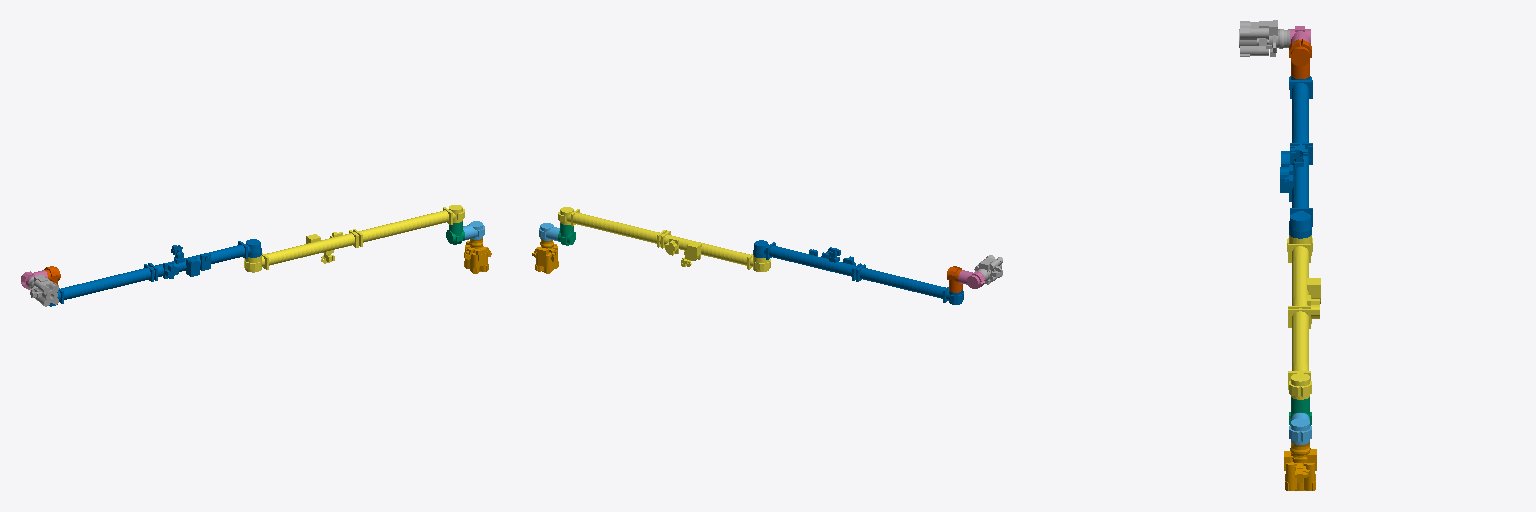
robot.urdf — CanadaArm2:
<?xml version="1.0" ?>
<robot name="CanadaArm2">

<!-- <material name="silver">
  <color rgba="0.700 0.700 0.700 1.000"/>
</material> -->

<link name="base_link">
  <inertial>
    <origin xyz="0.0009130959925412204 0.0006901136348603008 0.048208102763051236" rpy="0 0 0"/>
    <mass value="0.4237059895243373"/>
    <inertia ixx="0.0004092558945447719" iyy="0.00038404682501675465" izz="0.00020498064476976336" ixy="1.0165623829686665e-06" iyz="-4.948051807267175e-06" ixz="5.252636199371172e-06"/>
  </inertial>
  <visual>
    <origin xyz="0 0 0" rpy="0 0 0"/>
    <geometry>
      <mesh filename="meshes/base_link.stl" scale="0.001 0.001 0.001"/>
    </geometry>
    <!-- <material name="silver"/>
    <material/> -->
  </visual>
  <collision>
    <origin xyz="0 0 0" rpy="0 0 0"/>
    <geometry>
      <mesh filename="meshes/base_link.stl" scale="0.001 0.001 0.001"/>
    </geometry>
  </collision>
</link>

<link name="link_11">
  <inertial>
    <origin xyz="-0.012022080753456956 4.504438460746928e-06 0.021223287586985842" rpy="0 0 0"/>
    <mass value="0.15579058238581803"/>
    <inertia ixx="3.953363265274531e-05" iyy="8.371424973176991e-05" izz="8.6186782326062e-05" ixy="-1.0861613912698858e-07" iyz="4.379138446979421e-08" ixz="1.0201639682170562e-07"/>
  </inertial>
  <visual>
    <origin xyz="0.0 0.0 -0.109328" rpy="0 0 0"/>
    <geometry>
      <mesh filename="meshes/link_11.stl" scale="0.001 0.001 0.001"/>
    </geometry>
    <!-- <material name="silver"/>
    <material/> -->
  </visual>
  <collision>
    <origin xyz="0.0 0.0 -0.109328" rpy="0 0 0"/>
    <geometry>
      <mesh filename="meshes/link_11.stl" scale="0.001 0.001 0.001"/>
    </geometry>
  </collision>
</link>

<link name="link_21">
  <inertial>
    <origin xyz="-0.0212722329621534 -9.563785822951881e-07 0.012022116937095928" rpy="0 0 0"/>
    <mass value="0.15579021759009612"/>
    <inertia ixx="8.648943169675899e-05" iyy="8.429241934648085e-05" izz="3.9871128569710134e-05" ixy="1.9888566181498303e-08" iyz="4.4424194576562314e-09" ixz="-1.110155253675714e-07"/>
  </inertial>
  <visual>
    <origin xyz="0.050762 0.0 -0.130583" rpy="0 0 0"/>
    <geometry>
      <mesh filename="meshes/link_21.stl" scale="0.001 0.001 0.001"/>
    </geometry>
    <!-- <material name="silver"/>
    <material/> -->
  </visual>
  <collision>
    <origin xyz="0.050762 0.0 -0.130583" rpy="0 0 0"/>
    <geometry>
      <mesh filename="meshes/link_21.stl" scale="0.001 0.001 0.001"/>
    </geometry>
  </collision>
</link>

<link name="link_31">
  <inertial>
    <origin xyz="-0.3749592721242768 0.002167756136316175 0.020769052806213523" rpy="0 0 0"/>
    <mass value="1.342026213015195"/>
    <inertia ixx="0.0002589122773568181" iyy="0.06733252361597064" izz="0.06717431030885213" ixy="0.00018694044664734608" iyz="4.2211290964140266e-05" ixz="0.00020571069959553212"/>
  </inertial>
  <visual>
    <origin xyz="0.072005 0.0 -0.181344" rpy="0 0 0"/>
    <geometry>
      <mesh filename="meshes/link_31.stl" scale="0.001 0.001 0.001"/>
    </geometry>
    <!-- <material name="silver"/>
    <material/> -->
  </visual>
  <collision>
    <origin xyz="0.072005 0.0 -0.181344" rpy="0 0 0"/>
    <geometry>
      <mesh filename="meshes/link_31.stl" scale="0.001 0.001 0.001"/>
    </geometry>
  </collision>
</link>

<link name="link_41">
  <inertial>
    <origin xyz="-0.34102429216742425 -0.0024875618163693954 0.022823592324091285" rpy="0 0 0"/>
    <mass value="1.3047791025053486"/>
    <inertia ixx="0.0005005819746586454" iyy="0.06098802088277111" izz="0.06111706243026238" ixy="0.0003290206609817877" iyz="-1.2463562465362039e-05" ixz="-7.483793257567761e-05"/>
  </inertial>
  <visual>
    <origin xyz="0.775703 -1.6e-05 -0.232005" rpy="0 0 0"/>
    <geometry>
      <mesh filename="meshes/link_41.stl" scale="0.001 0.001 0.001"/>
    </geometry>
    <!-- <material name="silver"/>
    <material/> -->
  </visual>
  <collision>
    <origin xyz="0.775703 -1.6e-05 -0.232005" rpy="0 0 0"/>
    <geometry>
      <mesh filename="meshes/link_41.stl" scale="0.001 0.001 0.001"/>
    </geometry>
  </collision>
</link>

<link name="link_51">
  <inertial>
    <origin xyz="2.9454009316642882e-05 -5.2291701487376e-06 0.0387351142341712" rpy="0 0 0"/>
    <mass value="0.15576553227829482"/>
    <inertia ixx="8.227001568061366e-05" iyy="7.603788598981032e-05" izz="3.561108290406345e-05" ixy="2.1739266745471905e-07" iyz="5.310540229706253e-07" ixz="-7.962361346647295e-08"/>
  </inertial>
  <visual>
    <origin xyz="1.479425 -1.6e-05 -0.274942" rpy="0 0 0"/>
    <geometry>
      <mesh filename="meshes/link_51.stl" scale="0.001 0.001 0.001"/>
    </geometry>
    <!-- <material name="silver"/>
    <material/> -->
  </visual>
  <collision>
    <origin xyz="1.479425 -1.6e-05 -0.274942" rpy="0 0 0"/>
    <geometry>
      <mesh filename="meshes/link_51.stl" scale="0.001 0.001 0.001"/>
    </geometry>
  </collision>
</link>

<link name="link_61">
  <inertial>
    <origin xyz="-0.03871469375007819 4.616231212433191e-05 2.3531261986620144e-05" rpy="0 0 0"/>
    <mass value="0.15575461112408165"/>
    <inertia ixx="6.80786724601562e-05" iyy="0.00013769812830949357" izz="0.00011250739279045074" ixy="-4.997630556600001e-06" iyz="-4.777732048404048e-06" ixz="-1.2882027089627934e-06"/>
  </inertial>
  <visual>
    <origin xyz="1.500669 -1.6e-05 -0.325704" rpy="0 0 0"/>
    <geometry>
      <mesh filename="meshes/link_61.stl" scale="0.001 0.001 0.001"/>
    </geometry>
    <!-- <material name="silver"/>
    <material/> -->
  </visual>
  <collision>
    <origin xyz="1.500669 -1.6e-05 -0.325704" rpy="0 0 0"/>
    <geometry>
      <mesh filename="meshes/link_61.stl" scale="0.001 0.001 0.001"/>
    </geometry>
  </collision>
</link>

<link name="link_71">
  <inertial>
    <origin xyz="-0.0009163908926697051 -0.06112025146618943 0.000688272549077884" rpy="0 0 0"/>
    <mass value="0.4237362876419118"/>
    <inertia ixx="0.0004086266635229194" iyy="0.00020387938058230581" izz="0.0003835310833186778" ixy="-5.194200628555468e-06" iyz="-4.93113862320288e-06" ixz="-1.0191638754875054e-06"/>
  </inertial>
  <visual>
    <origin xyz="1.55143 0.021239 -0.325704" rpy="0 0 0"/>
    <geometry>
      <mesh filename="meshes/link_71.stl" scale="0.001 0.001 0.001"/>
    </geometry>
    <!-- <material name="silver"/>
    <material/> -->
  </visual>
  <collision>
    <origin xyz="1.55143 0.021239 -0.325704" rpy="0 0 0"/>
    <geometry>
      <mesh filename="meshes/link_71.stl" scale="0.001 0.001 0.001"/>
    </geometry>
  </collision>
</link>

<joint name="joint_1" type="revolute">
  <origin xyz="0.0 0.0 0.109328" rpy="0 0 0"/>
  <parent link="base_link"/>
  <child link="link_11"/>
  <axis xyz="-0.0 0.0 -1.0"/>
  <limit upper="3.141593" lower="-3.141593" effort="100" velocity="100"/>
</joint>
<transmission name="joint_1_tran">
  <type>transmission_interface/SimpleTransmission</type>
  <joint name="joint_1">
    <hardwareInterface>PositionJointInterface</hardwareInterface>
  </joint>
  <actuator name="joint_1_actr">
    <hardwareInterface>PositionJointInterface</hardwareInterface>
    <mechanicalReduction>1</mechanicalReduction>
  </actuator>
</transmission>

<joint name="joint_2" type="revolute">
  <origin xyz="-0.050762 0.0 0.021255" rpy="0 0 0"/>
  <parent link="link_11"/>
  <child link="link_21"/>
  <axis xyz="-1.0 0.0 0.0"/>
  <limit upper="3.141593" lower="-3.141593" effort="100" velocity="100"/>
</joint>
<transmission name="joint_2_tran">
  <type>transmission_interface/SimpleTransmission</type>
  <joint name="joint_2">
    <hardwareInterface>PositionJointInterface</hardwareInterface>
  </joint>
  <actuator name="joint_2_actr">
    <hardwareInterface>PositionJointInterface</hardwareInterface>
    <mechanicalReduction>1</mechanicalReduction>
  </actuator>
</transmission>

<joint name="joint_3" type="revolute">
  <origin xyz="-0.021243 0.0 0.050761" rpy="0 0 0"/>
  <parent link="link_21"/>
  <child link="link_31"/>
  <axis xyz="0.0 0.0 1.0"/>
  <limit upper="3.141593" lower="-3.141593" effort="100" velocity="100"/>
</joint>
<transmission name="joint_3_tran">
  <type>transmission_interface/SimpleTransmission</type>
  <joint name="joint_3">
    <hardwareInterface>PositionJointInterface</hardwareInterface>
  </joint>
  <actuator name="joint_3_actr">
    <hardwareInterface>PositionJointInterface</hardwareInterface>
    <mechanicalReduction>1</mechanicalReduction>
  </actuator>
</transmission>

<joint name="joint_4" type="revolute">
  <origin xyz="-0.703698 1.6e-05 0.050661" rpy="0 0 0"/>
  <parent link="link_31"/>
  <child link="link_41"/>
  <axis xyz="0.0 0.0 1.0"/>
  <limit upper="3.141593" lower="-3.141593" effort="100" velocity="100"/>
</joint>
<transmission name="joint_4_tran">
  <type>transmission_interface/SimpleTransmission</type>
  <joint name="joint_4">
    <hardwareInterface>PositionJointInterface</hardwareInterface>
  </joint>
  <actuator name="joint_4_actr">
    <hardwareInterface>PositionJointInterface</hardwareInterface>
    <mechanicalReduction>1</mechanicalReduction>
  </actuator>
</transmission>

<joint name="joint_5" type="revolute">
  <origin xyz="-0.703722 0.0 0.042937" rpy="0 0 0"/>
  <parent link="link_41"/>
  <child link="link_51"/>
  <axis xyz="-0.0 0.0 1.0"/>
  <limit upper="3.141593" lower="-3.141593" effort="100" velocity="100"/>
</joint>
<transmission name="joint_5_tran">
  <type>transmission_interface/SimpleTransmission</type>
  <joint name="joint_5">
    <hardwareInterface>PositionJointInterface</hardwareInterface>
  </joint>
  <actuator name="joint_5_actr">
    <hardwareInterface>PositionJointInterface</hardwareInterface>
    <mechanicalReduction>1</mechanicalReduction>
  </actuator>
</transmission>

<joint name="joint_6" type="revolute">
  <origin xyz="-0.021244 0.0 0.050762" rpy="0 0 0"/>
  <parent link="link_51"/>
  <child link="link_61"/>
  <axis xyz="-1.0 -0.0 0.0"/>
  <limit upper="3.141593" lower="-3.141593" effort="100" velocity="100"/>
</joint>
<transmission name="joint_6_tran">
  <type>transmission_interface/SimpleTransmission</type>
  <joint name="joint_6">
    <hardwareInterface>PositionJointInterface</hardwareInterface>
  </joint>
  <actuator name="joint_6_actr">
    <hardwareInterface>PositionJointInterface</hardwareInterface>
    <mechanicalReduction>1</mechanicalReduction>
  </actuator>
</transmission>

<joint name="joint_7" type="revolute">
  <origin xyz="-0.050761 -0.021255 0.0" rpy="0 0 0"/>
  <parent link="link_61"/>
  <child link="link_71"/>
  <axis xyz="0.0 -1.0 0.0"/>
  <limit upper="3.141593" lower="-3.141593" effort="100" velocity="100"/>
</joint>
<transmission name="joint_7_tran">
  <type>transmission_interface/SimpleTransmission</type>
  <joint name="joint_7">
    <hardwareInterface>PositionJointInterface</hardwareInterface>
  </joint>
  <actuator name="joint_7_actr">
    <hardwareInterface>PositionJointInterface</hardwareInterface>
    <mechanicalReduction>1</mechanicalReduction>
  </actuator>
</transmission>

</robot>

--- Facts derived from the render (not from the file) ---
3 views of the same robot in one strip: view 1: azimuth 30°, elevation 25°; view 2: azimuth 150°, elevation 25°; view 3: azimuth 270°, elevation 25° (orthographic).
Model CanadaArm2 with 8 links and 7 joints (7 revolute), rooted at base_link, posed all joints at 0.
Visible links, largest first — view 1: link_31, link_41, base_link, link_71; view 2: link_31, link_41, base_link, link_71; view 3: link_31, link_41, link_71, base_link, link_51, link_11.
Boxes of the visible links, <box> form: link_31: <box>244,205,464,272</box>; link_41: <box>49,239,261,306</box>; base_link: <box>464,238,491,273</box>; link_71: <box>28,275,58,306</box>; link_31: <box>558,207,770,271</box>; link_41: <box>753,240,963,304</box>; base_link: <box>532,238,558,273</box>; link_71: <box>974,255,1002,284</box>; link_31: <box>1287,235,1320,399</box>; link_41: <box>1280,76,1312,238</box>; link_71: <box>1239,20,1289,56</box>; base_link: <box>1284,442,1316,490</box>; link_51: <box>1289,39,1311,78</box>; link_11: <box>1289,413,1311,444</box>.
Bounding box of the posed robot: 1.64 × 0.1743 × 0.3617 m (x, y, z).
8 mesh visuals loaded from 8 distinct referenced files (8 binary STL).